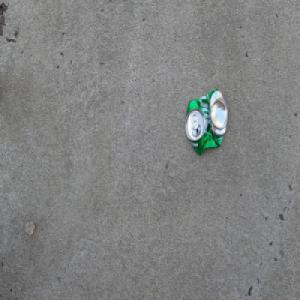SodaCan: (184, 88, 228, 155)
